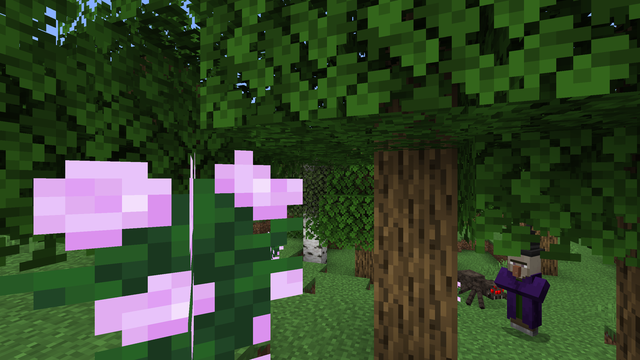araignees: (458, 268, 499, 309)
sorcieres: (505, 264, 545, 339)
